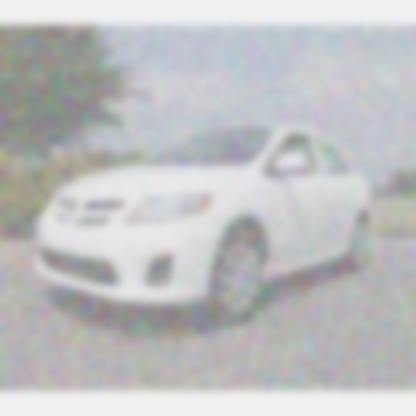Vehicle: (35, 123, 380, 330)
